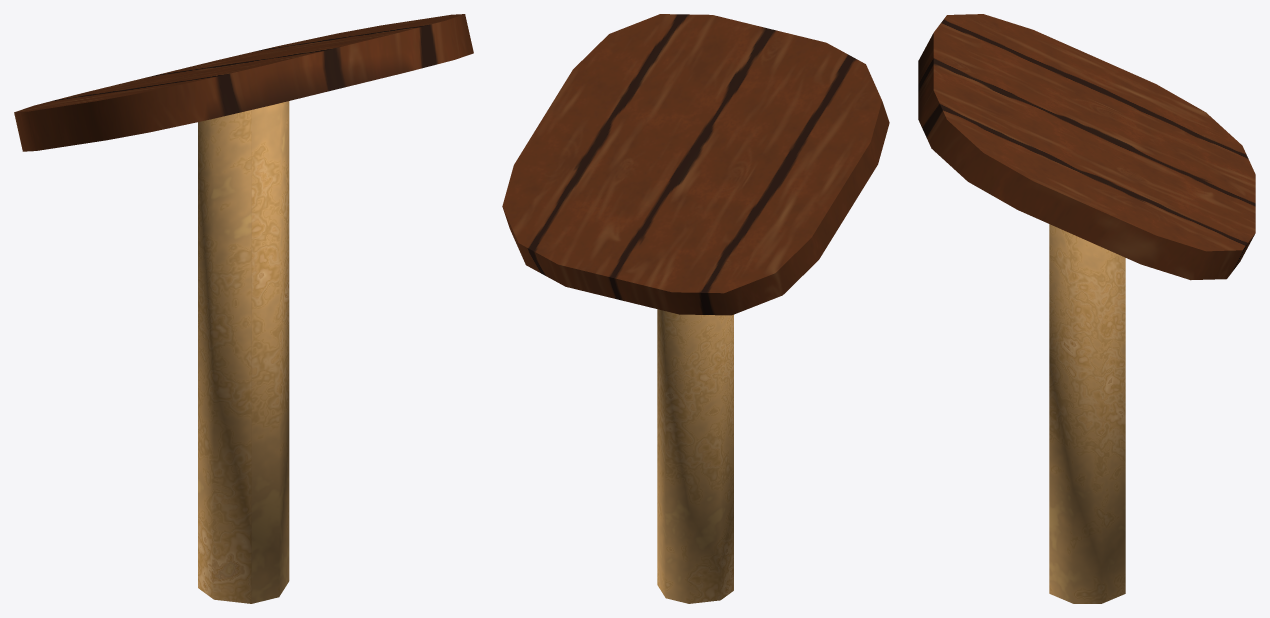
File: AC_ElevatorPanel.fbx
The picture shows the model from 3 angles, left to right: view 1: azimuth 30°, elevation 25°; view 2: azimuth 150°, elevation 25°; view 3: azimuth 270°, elevation 25°; orthographic projection. The views are drawn at different scales.
Parts seen in each view (by area): view 1: Panel; view 2: Panel; view 3: Panel.
Part boxes in pixels (left/top/right/bottom): Panel: left=14, top=14, right=473, bottom=603; Panel: left=502, top=14, right=889, bottom=603; Panel: left=918, top=14, right=1255, bottom=603.
Bounding box in the file's own units: 100 × 162 × 94.21.
